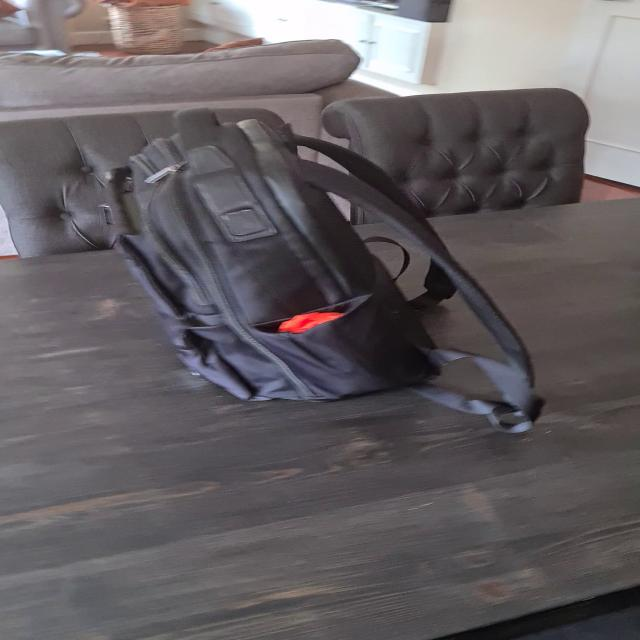backpack: (86, 101, 464, 406)
